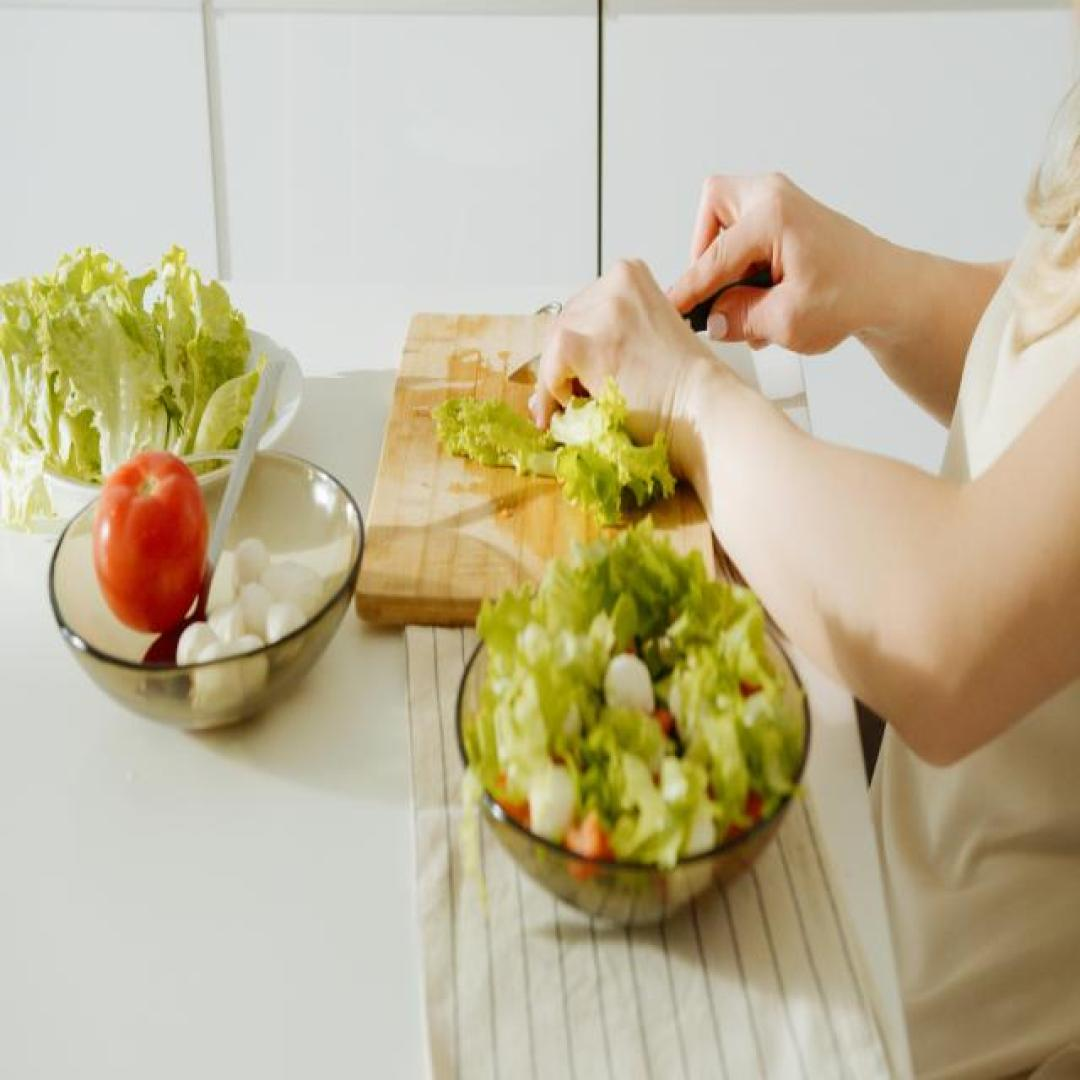matang: (93, 450, 209, 634)
